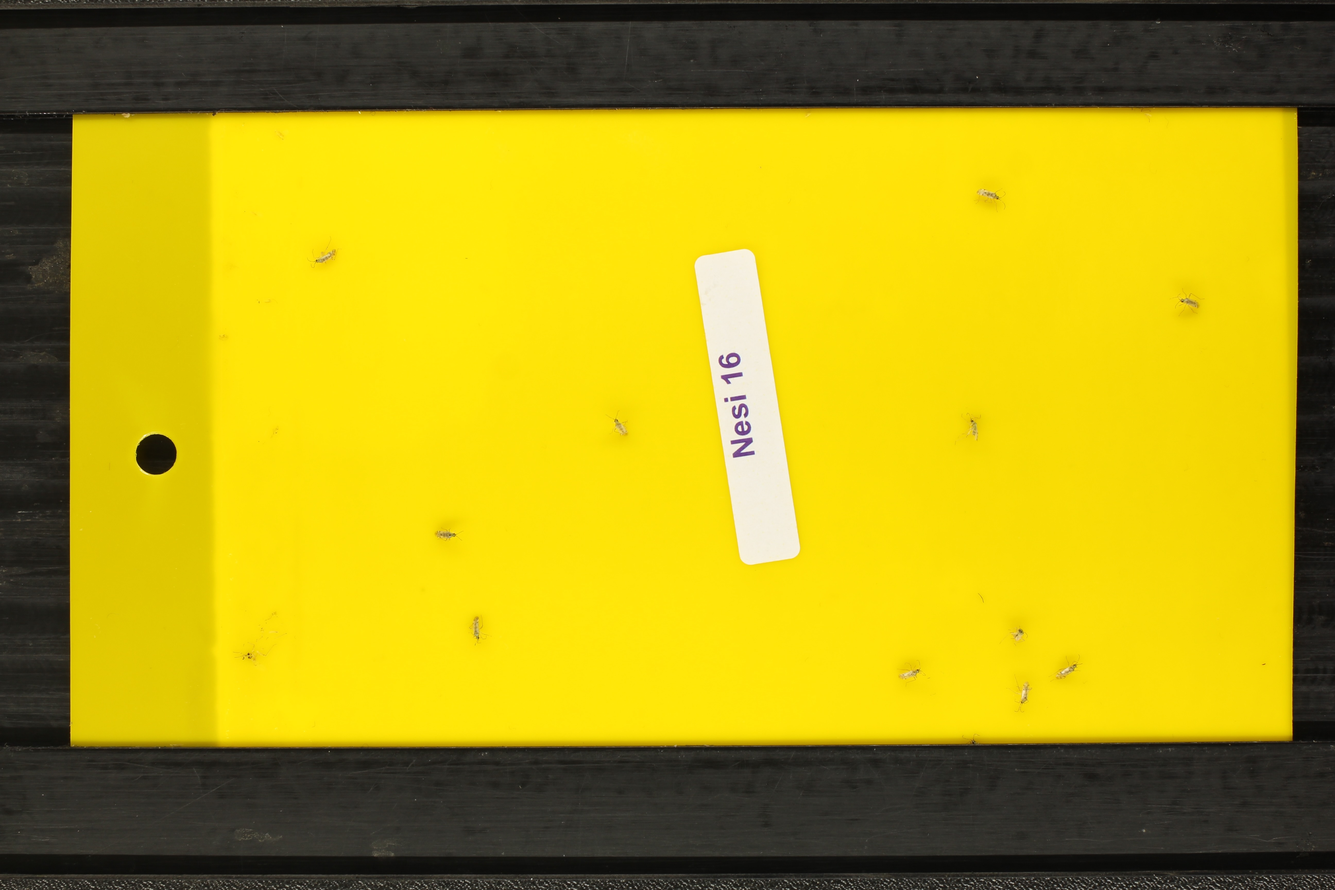NC: (425, 518, 468, 550), (304, 239, 344, 272), (1167, 290, 1207, 318), (956, 409, 986, 444), (971, 183, 1008, 211), (1009, 678, 1037, 715), (465, 611, 492, 649), (1052, 654, 1086, 684), (1001, 623, 1034, 652), (895, 658, 929, 684), (603, 408, 631, 439)
